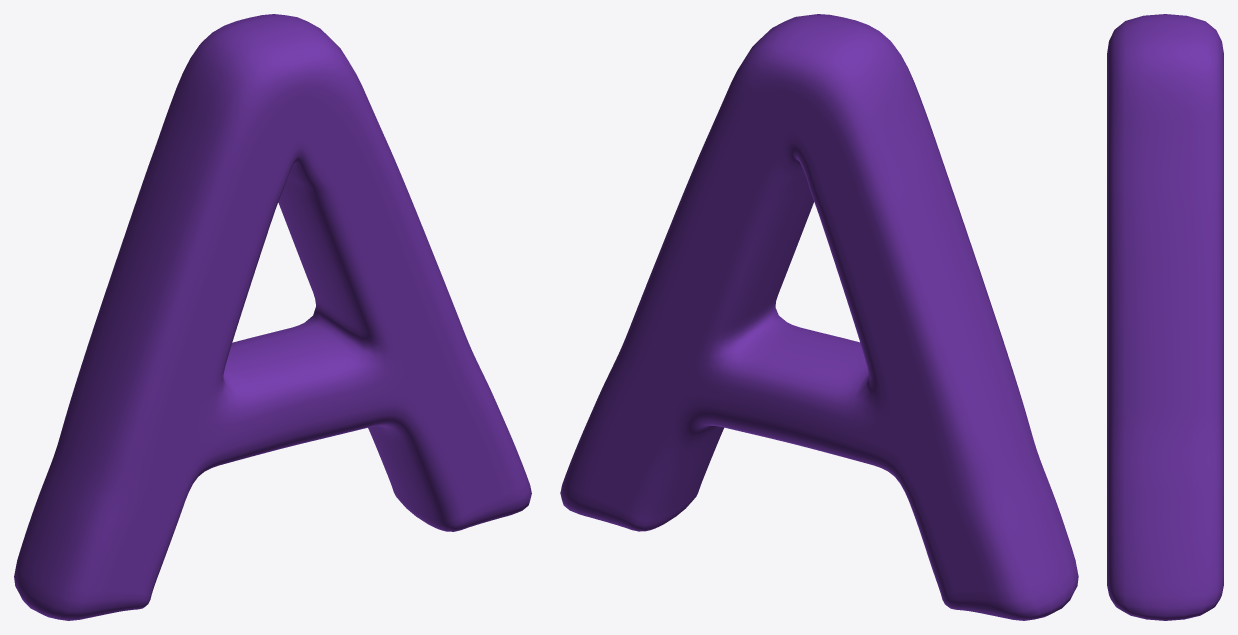
File: Letter_A.glb
3 views of the same model, side by side, from view 1: azimuth 30°, elevation 25°; view 2: azimuth 150°, elevation 25°; view 3: azimuth 270°, elevation 25° (orthographic). The views are drawn at different scales.
Parts seen in each view (by area): view 1: PP_FixMe_002:Default:PIV; view 2: PP_FixMe_002:Default:PIV; view 3: PP_FixMe_002:Default:PIV.
Boxes of the visible parts, x1,y1,x2,y2 form: PP_FixMe_002:Default:PIV: (14, 14, 531, 620); PP_FixMe_002:Default:PIV: (560, 14, 1078, 620); PP_FixMe_002:Default:PIV: (1107, 14, 1223, 620).
Bounding box in the file's own units: 0.9164 × 0.9496 × 0.205.
